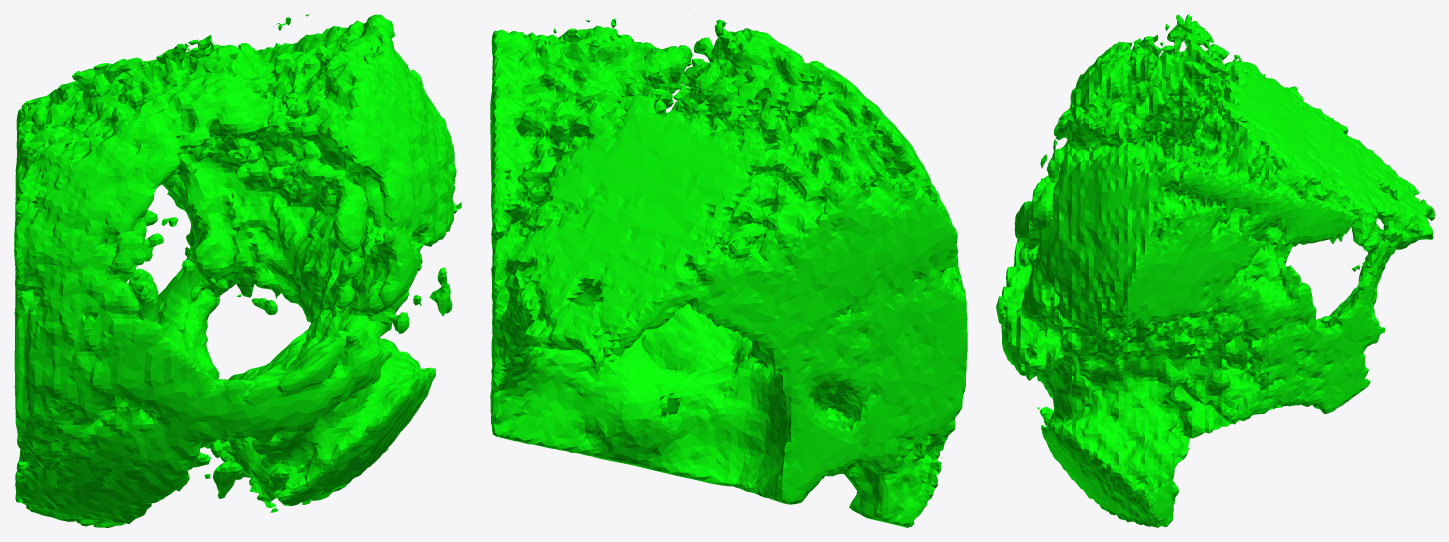
File: B939XXXX-1_base_6.obj
3 views of the same model, side by side, from view 1: azimuth 30°, elevation 25°; view 2: azimuth 150°, elevation 25°; view 3: azimuth 270°, elevation 25° (orthographic). The views are drawn at different scales.
Parts seen in each view (by area): view 1: 6_base; view 2: 6_base; view 3: 6_base.
Part boxes in pixels (bbox=[...]): 6_base: bbox=[14, 14, 461, 527]; 6_base: bbox=[490, 14, 967, 527]; 6_base: bbox=[996, 14, 1434, 527].
Size of the model in its own units: 219 by 217 by 205.
